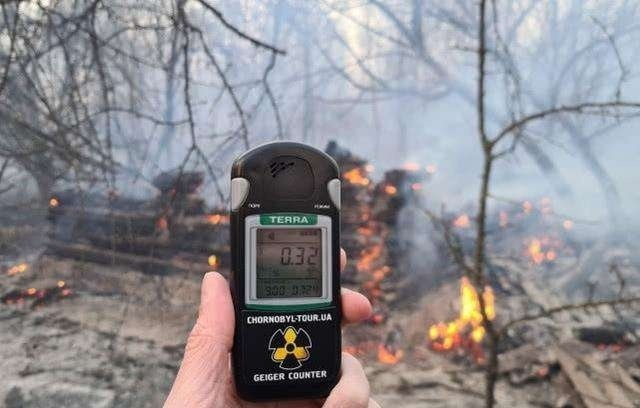fire: (341, 164, 407, 368), (423, 276, 500, 355), (503, 196, 573, 262), (204, 211, 227, 225), (49, 196, 59, 207)
